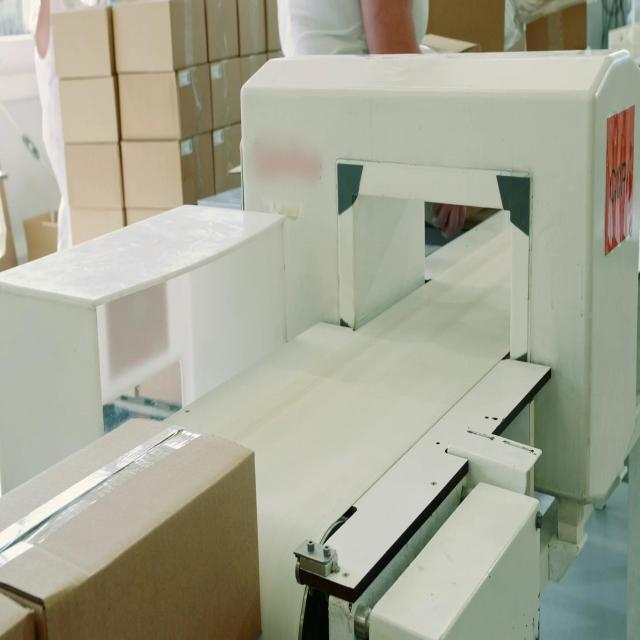box: (0, 417, 262, 639), (0, 591, 36, 639)
